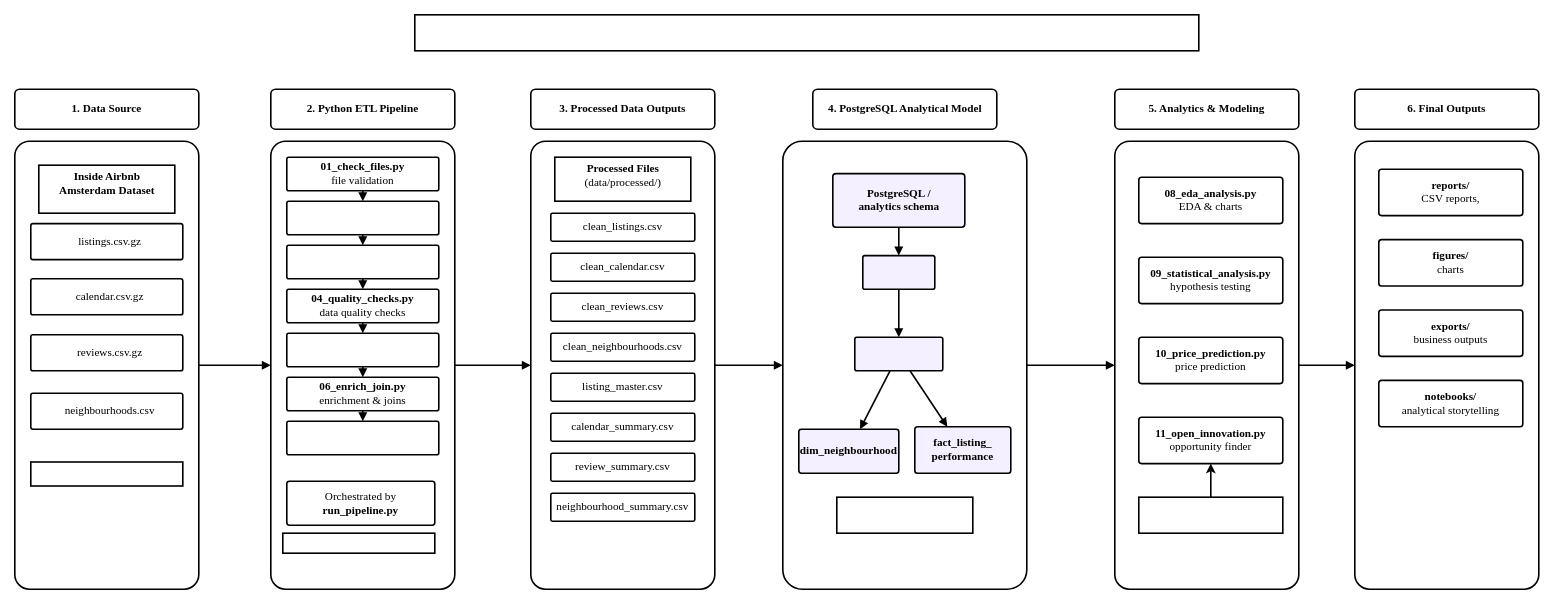
Image size: 1553x603. Some labels were removed from this diagram. The shapes that lost their labels are listed below. From the top down, each one's centre as x and y in pixels, then its label:
(x=806, y=32): Data Architecture
(x=362, y=217): 02_profile_data.py profiling & schema review
(x=362, y=261): 03_extract.py column extraction
(x=898, y=272): dim_host
(x=362, y=349): 05_transform.py cleaning & standardization
(x=898, y=353): dim_listing
(x=362, y=437): 07_load_to_postgres.py database loading
(x=106, y=473): Stored in data/raw/
(x=904, y=515): Tools: PostgreSQL, SQLAlchemy
(x=1210, y=515): Tools: matplotlib, scipy, scikit-learn
(x=358, y=543): Tools: Python, pandas
